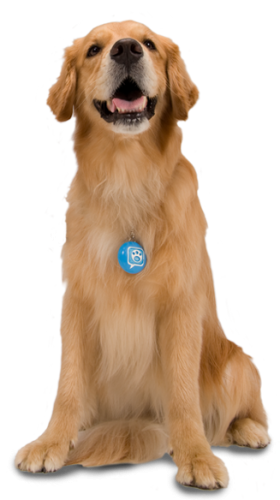dog: (14, 17, 273, 489)
